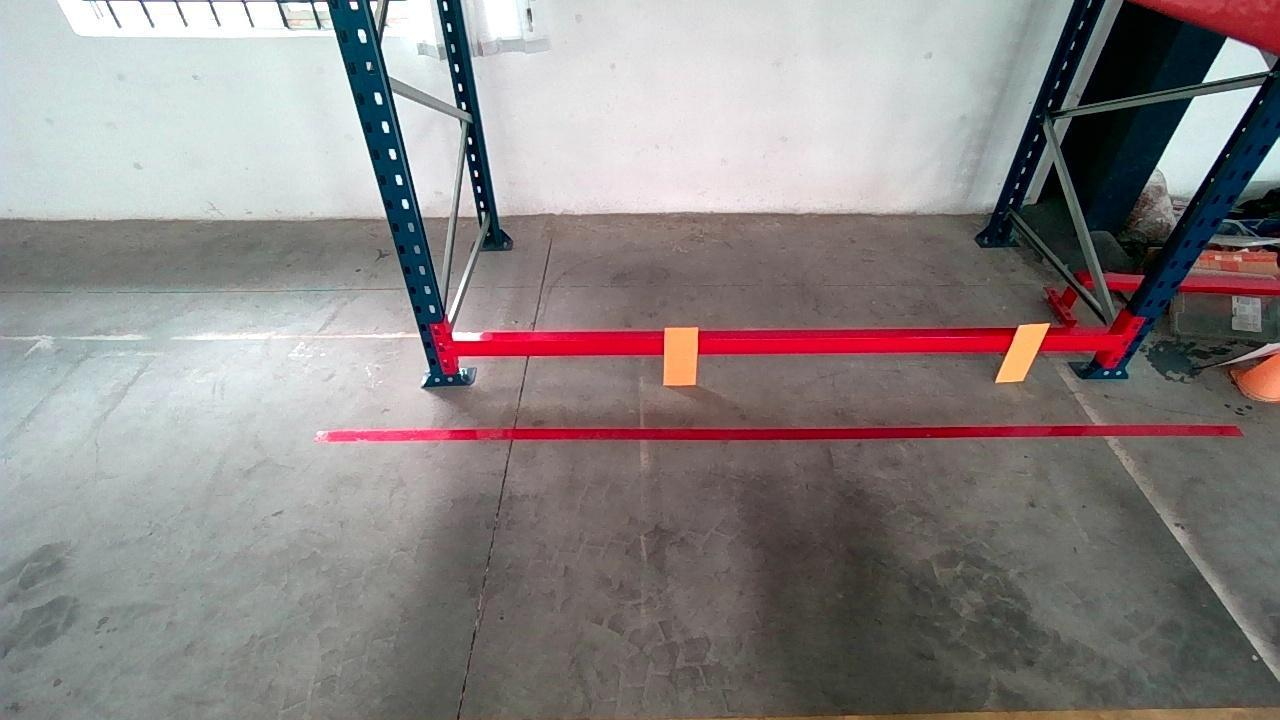h_rack: (449, 325, 1121, 355)
orange_strip: (996, 323, 1053, 381), (664, 325, 698, 385)
red_line: (344, 418, 1238, 442)
yellow_line: (878, 699, 1276, 720)
